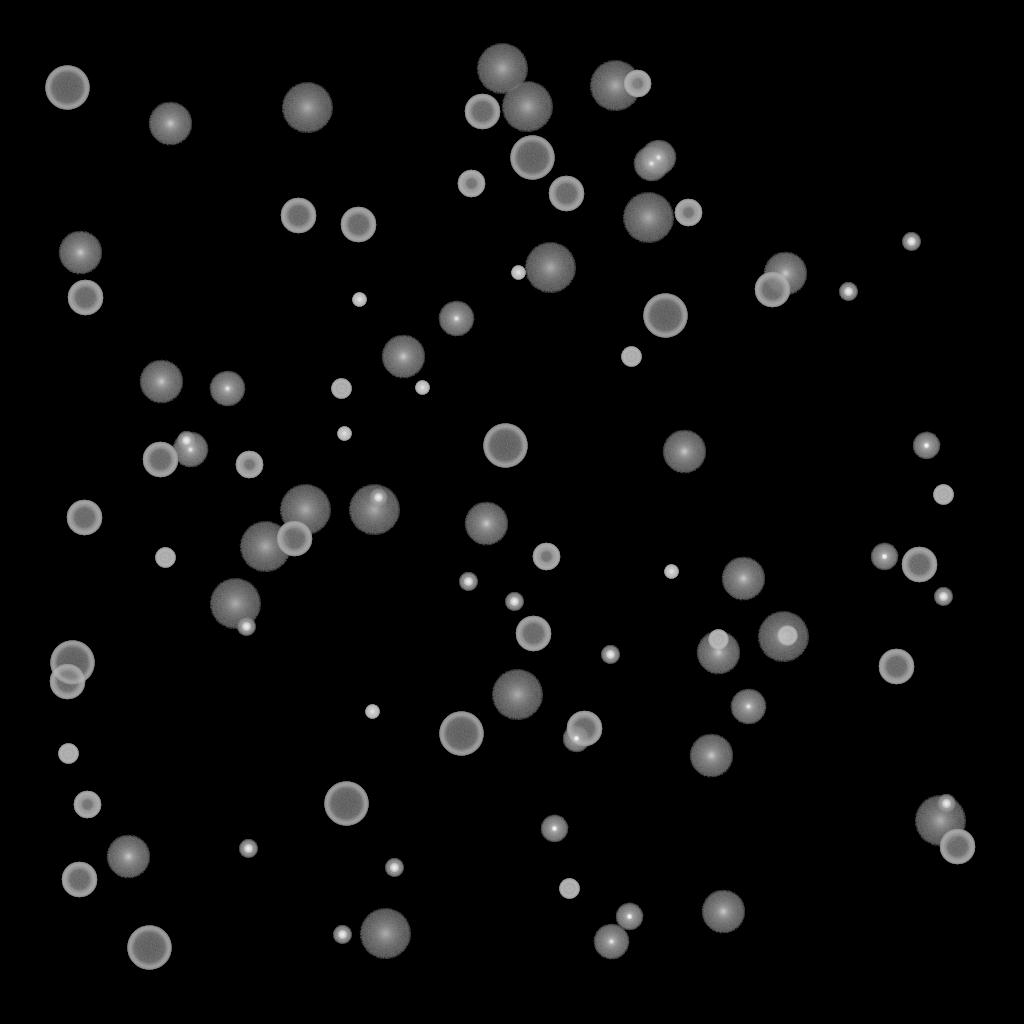depth:-10: (912, 432, 940, 460), (615, 903, 643, 931), (540, 815, 568, 843), (562, 725, 590, 753), (870, 543, 898, 571)
depth:-20: (839, 283, 857, 301), (239, 840, 257, 858), (934, 588, 952, 606), (505, 593, 523, 611), (459, 573, 477, 591), (601, 646, 619, 664), (237, 618, 255, 636), (937, 795, 955, 813), (177, 432, 195, 450), (369, 489, 387, 507), (902, 233, 920, 251), (333, 926, 351, 944), (385, 859, 403, 877)
depth:-30: (337, 427, 351, 441), (664, 565, 678, 579), (511, 266, 525, 280), (352, 293, 366, 307), (365, 705, 379, 719), (415, 381, 429, 395)
depth:-40: (58, 744, 78, 764), (621, 347, 641, 367), (155, 548, 175, 568), (331, 379, 351, 399), (777, 626, 797, 646), (708, 630, 728, 650), (559, 879, 579, 899), (933, 485, 953, 505)
depth:-50: (674, 199, 702, 227), (235, 451, 263, 479), (73, 791, 101, 819), (532, 543, 560, 571), (457, 170, 485, 198), (623, 70, 651, 98)
depth:-60: (280, 198, 316, 234), (340, 207, 376, 243), (67, 280, 103, 316), (754, 272, 790, 308), (878, 649, 914, 685), (566, 711, 602, 747), (142, 442, 178, 478), (901, 547, 937, 583), (61, 862, 97, 898), (464, 94, 500, 130), (49, 664, 85, 700), (276, 521, 312, 557), (548, 176, 584, 212), (66, 500, 102, 536), (515, 616, 551, 652), (939, 829, 975, 865)
depth:-70: (324, 782, 368, 826), (510, 136, 554, 180), (439, 712, 483, 756), (50, 641, 94, 685), (643, 294, 687, 338), (483, 424, 527, 468), (45, 66, 89, 110), (127, 926, 171, 970)
depth:0: (633, 146, 669, 182), (730, 689, 766, 725), (640, 140, 676, 176), (209, 371, 245, 407), (438, 301, 474, 337), (172, 432, 208, 468), (593, 924, 629, 960)
depth:10: (721, 557, 765, 601), (464, 502, 508, 546), (701, 890, 745, 934), (106, 835, 150, 879), (148, 102, 192, 146), (763, 252, 807, 296), (689, 734, 733, 778), (58, 231, 102, 275), (696, 631, 740, 675), (662, 430, 706, 474), (139, 360, 183, 404), (381, 335, 425, 379)
depth:20: (501, 82, 553, 132), (622, 193, 674, 243), (239, 522, 291, 572), (524, 243, 576, 293), (491, 670, 543, 720), (757, 612, 809, 662), (279, 485, 331, 535), (359, 909, 411, 959), (476, 44, 528, 94), (281, 83, 333, 133), (209, 579, 261, 629), (914, 796, 966, 846), (348, 485, 400, 535), (589, 61, 641, 111)
